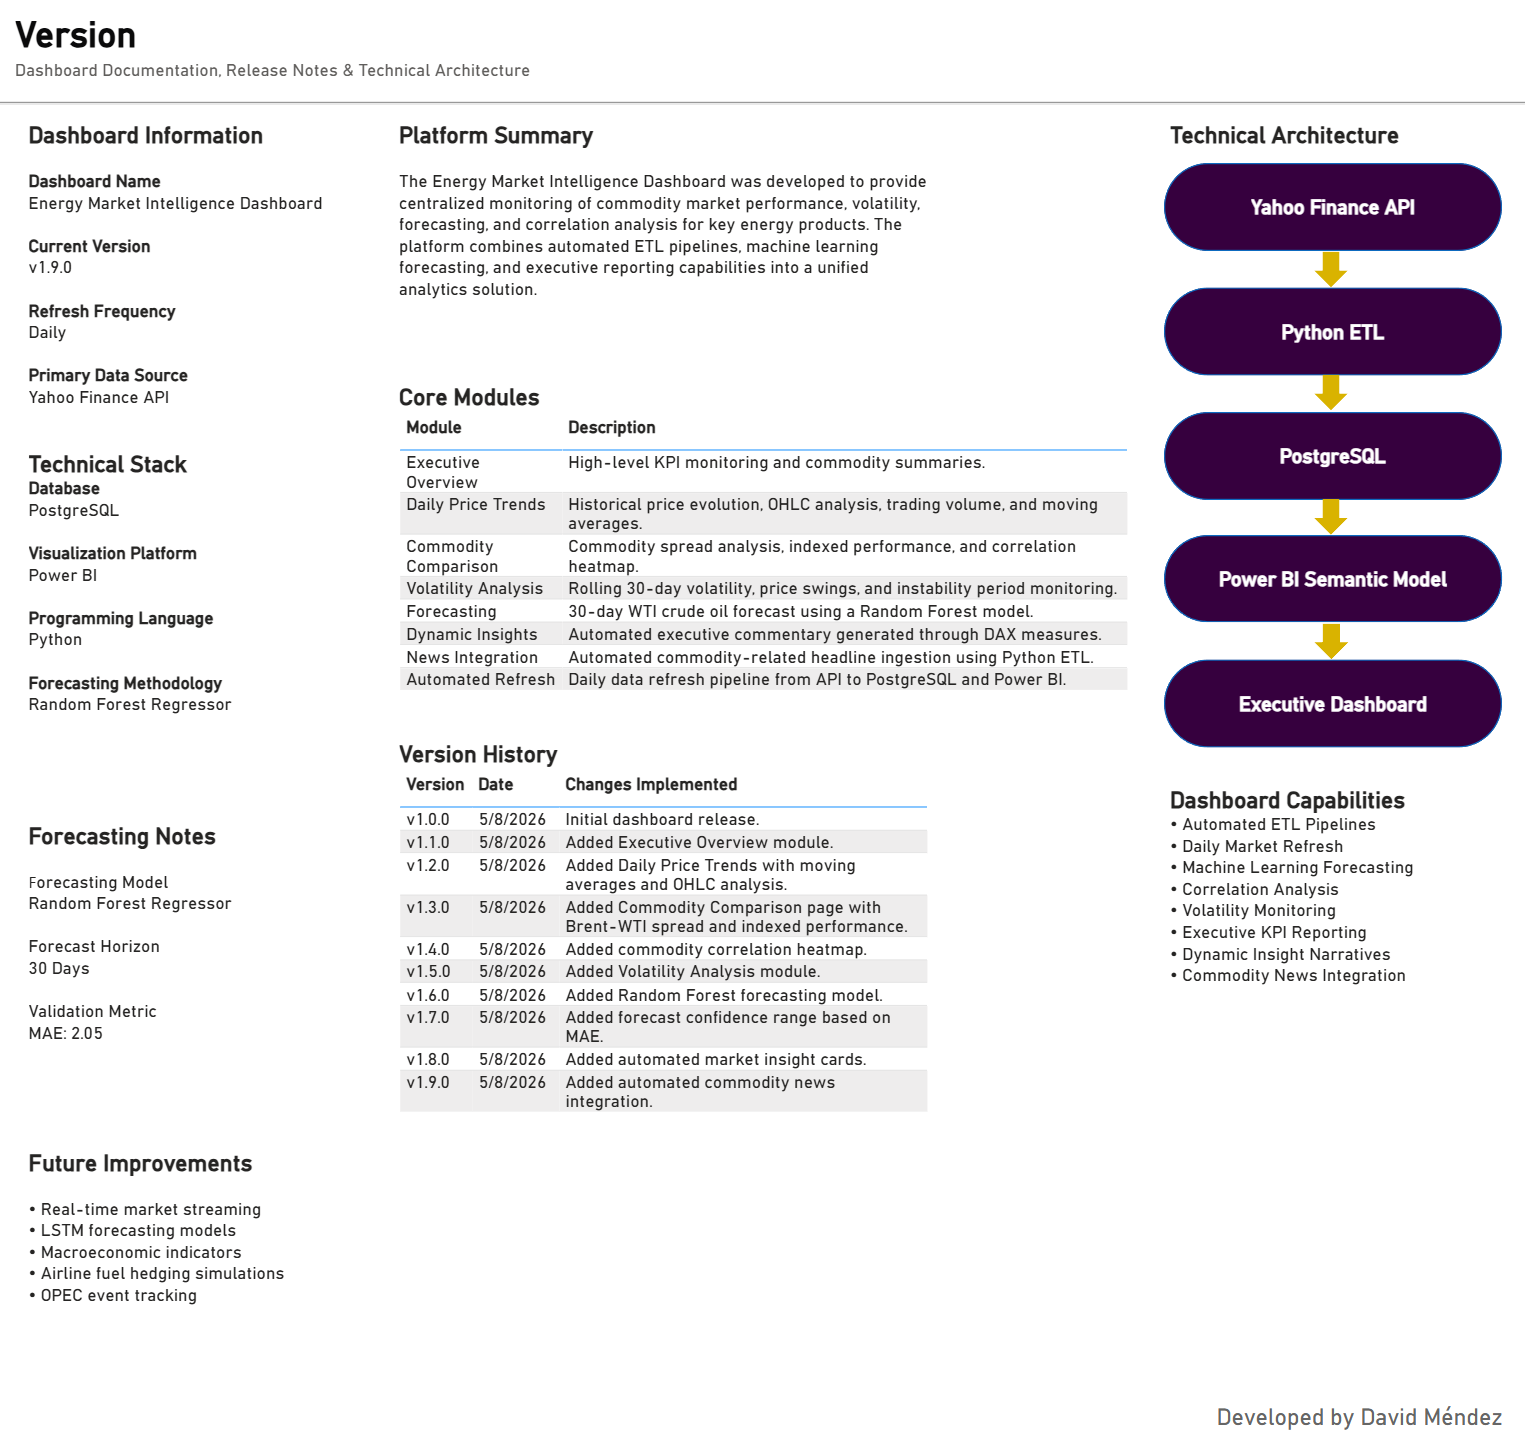

This screenshot's page, from the dashboard's own definition file:
{"tool":"powerbi","page":{"name":"Version","canvas":[1280,1216],"ordinal":5},"visuals":[{"type":"shape","box":[0,0,1280,90],"z":0},{"type":"shape","box":[0,90,1280,1126.7],"z":1000},{"type":"textbox","title":"Version","box":[10,15,718.3,58.3],"z":3000},{"type":"textbox","box":[21.7,100,266.7,565],"z":3001},{"type":"textbox","box":[329.7,100,458.3,201.7],"z":3002},{"type":"textbox","box":[972,100,248,36],"z":3003},{"type":"tableEx","title":"Core Modules","fields":{"Values":["Core Modules.Module","Core Modules.Description"]},"box":[329.7,323.3,646.7,298.3],"z":3005},{"type":"tableEx","title":"Version History","fields":{"Values":["Version History.Version","Version History.Date","Version History.Changes Implemented"]},"box":[329.7,621.7,525,328.3],"z":3006},{"type":"textbox","box":[21.7,956.7,266.7,201.7],"z":3007},{"type":"textbox","box":[21.7,683.3,266.7,201.7],"z":3008},{"type":"textbox","box":[972,654,276,202],"z":3009},{"type":"textbox","title":"Developed by David Méndez","box":[1011.7,1173.3,256.7,30],"z":3010},{"type":"shape","box":[972,140,281.7,73.3],"z":3011,"group":"g1"},{"type":"shape","box":[972,243.5,281.7,73.3],"z":3012,"group":"g1"},{"type":"shape","box":[972,347,281.7,73.3],"z":3013,"group":"g1"},{"type":"shape","box":[972,450.5,281.8,72.7],"z":3014,"group":"g1"},{"type":"shape","box":[972,553.3,281.7,73.3],"z":3015,"group":"g1"},{"type":"shape","box":[1097,213.3,28.3,30],"z":3016,"group":"g1"},{"type":"shape","box":[1097,316.9,28.3,30],"z":3017,"group":"g1"},{"type":"shape","box":[1097,420.4,28.3,30],"z":3019,"group":"g1"},{"type":"shape","box":[1097,523.9,28.9,30],"z":3020,"group":"g1"},{"type":"group","id":"g1","title":"Group 1","box":[972,140,282,486],"z":3021}]}

Visuals, with their boxes in screenshot pixels (x1, y1, x2, y2), scaled from the page's 1280x1216 canvas onto the 1525x1438 screenshot:
shape: 0/0/1524/106
shape: 0/106/1524/1437
"Version" textbox: 12/18/868/87
textbox: 26/118/344/786
textbox: 393/118/939/357
textbox: 1158/118/1454/161
"Core Modules" tableEx: 393/382/1163/735
"Version History" tableEx: 393/735/1018/1123
textbox: 26/1131/344/1370
textbox: 26/808/344/1047
textbox: 1158/773/1487/1012
"Developed by David Méndez" textbox: 1205/1388/1511/1423
shape: 1158/166/1494/252
shape: 1158/288/1494/375
shape: 1158/410/1494/497
shape: 1158/533/1494/619
shape: 1158/654/1494/741
shape: 1307/252/1341/288
shape: 1307/375/1341/410
shape: 1307/497/1341/533
shape: 1307/620/1341/655
"Group 1" group: 1158/166/1494/740
